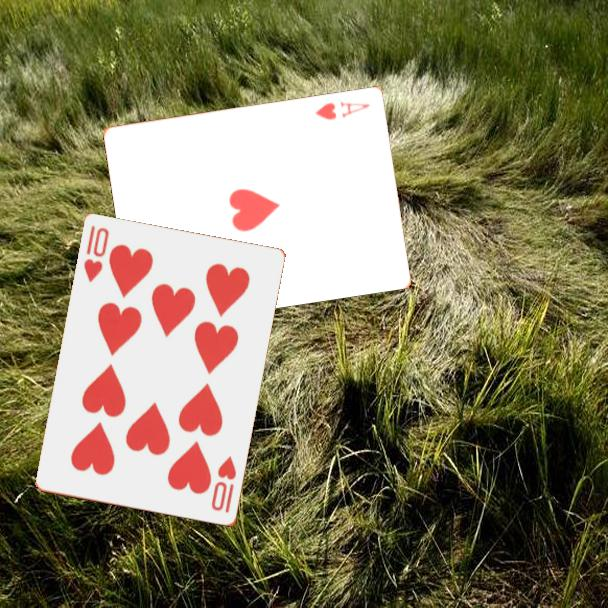h01: (312, 97, 373, 123)
h10: (80, 222, 112, 285), (208, 453, 239, 516)
